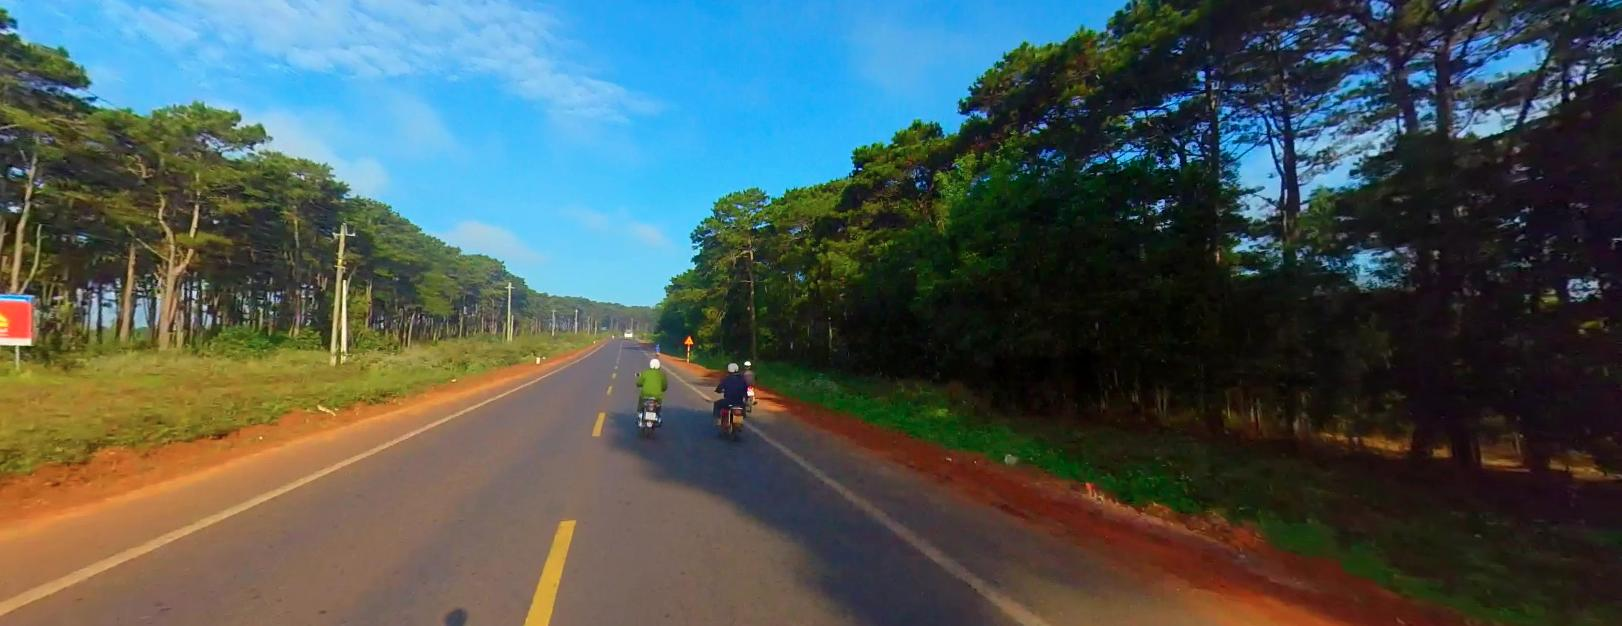Nguy hiem: (683, 333, 693, 343)
